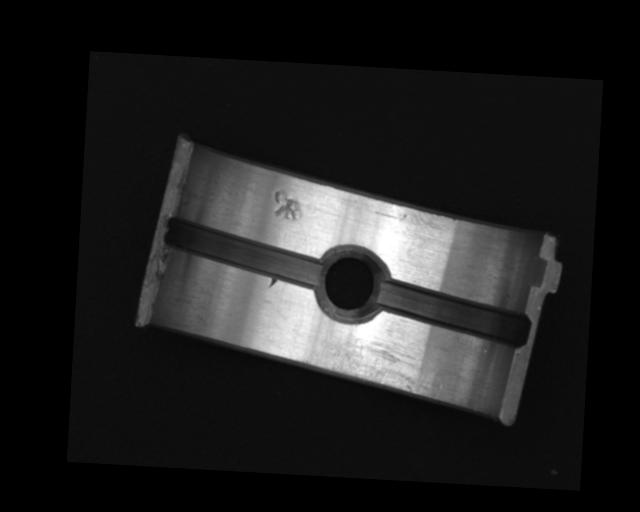bruise: (271, 188, 304, 221), (267, 276, 278, 290)
gap: (159, 218, 324, 288), (375, 277, 532, 347)
hole: (313, 245, 389, 323)
scratch: (302, 326, 446, 402)
